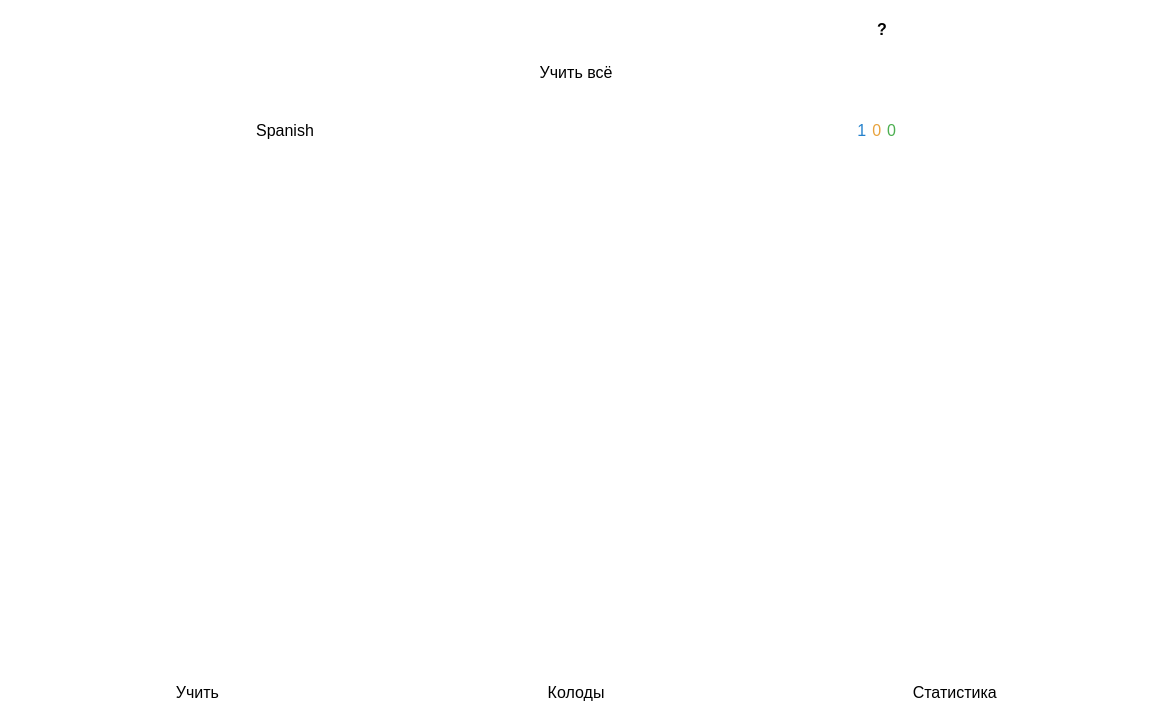
Test: Mini App › shows the global remainder when the all-decks queue is temporarily empty
Click the button "Учить всё".
click(576, 73)  # box [256,52,896,94]
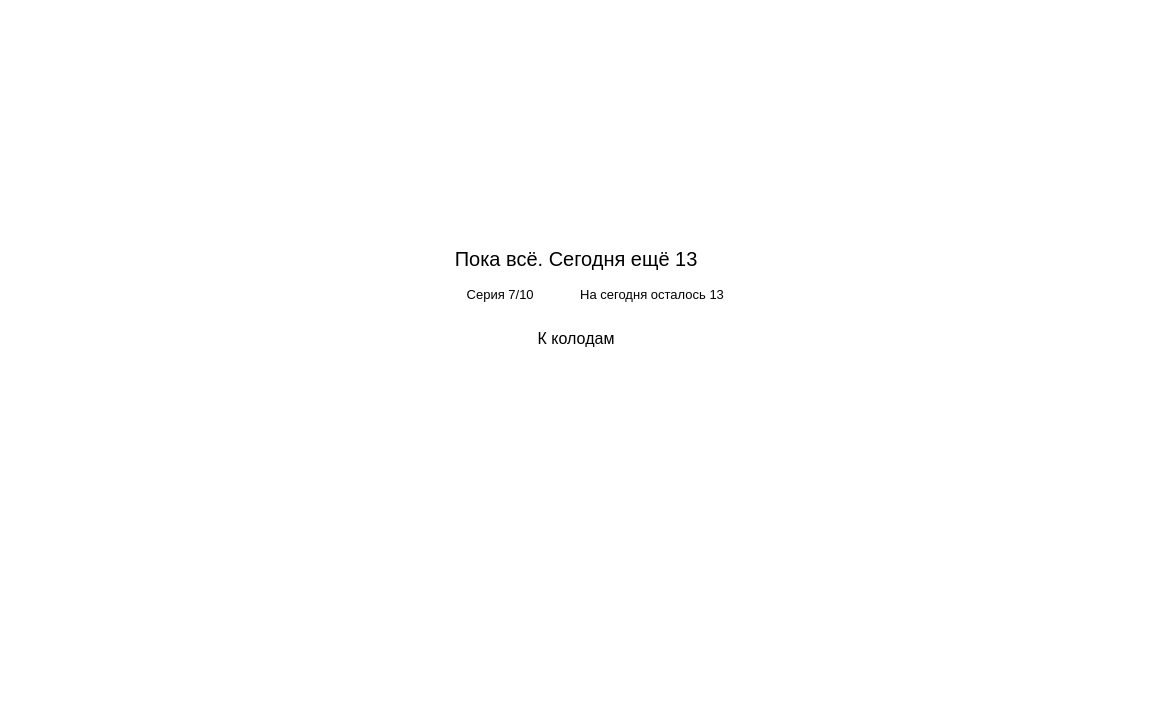
Expected: the text "Пока всё. Сегодня ещё 13" is shown, [455,248,697,270]
Expected: the text "Серия 7/10" is shown, [466,287,534,302]
Expected: the text "На сегодня осталось 13" is shown, [580,287,724,302]
